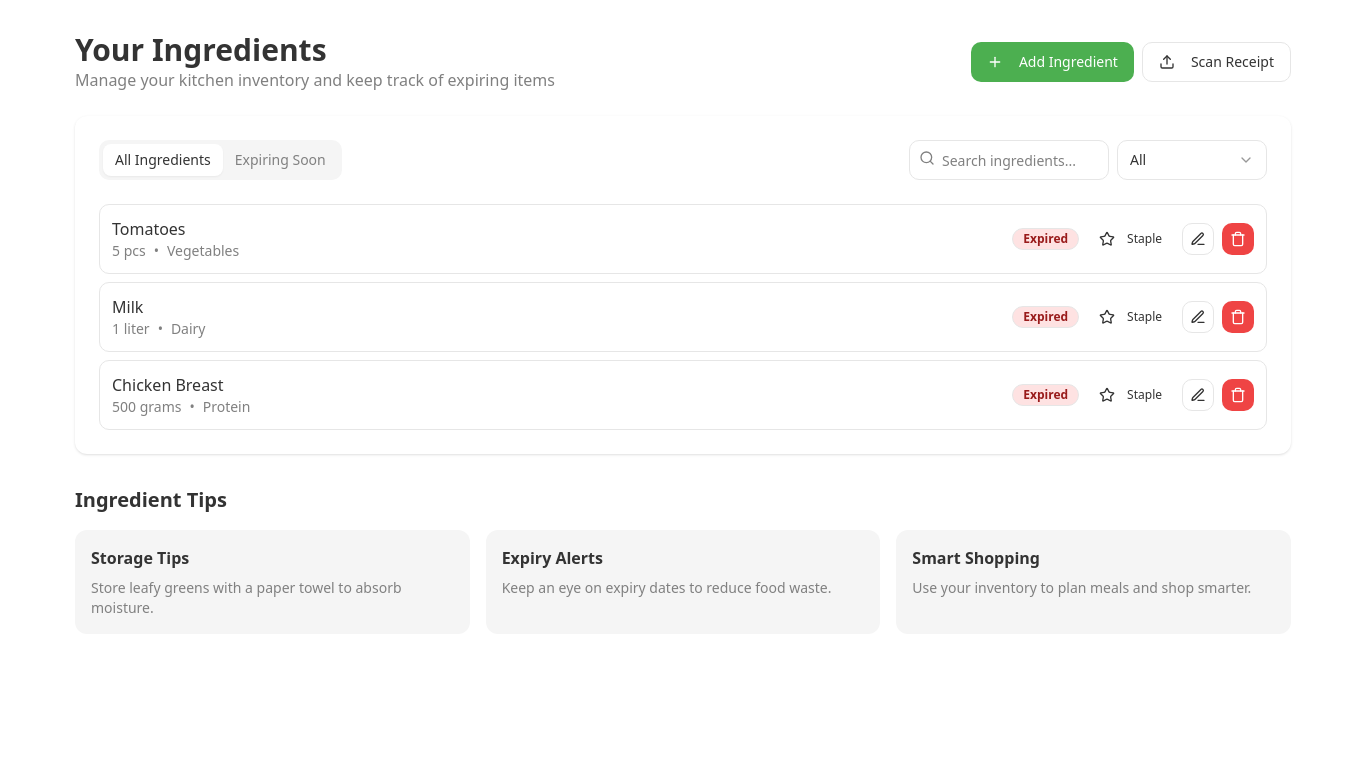
Scenario: Inventory Page › opens add ingredient dialog
Click the button "Add Ingredient": (1052, 62) [971,42,1134,82]
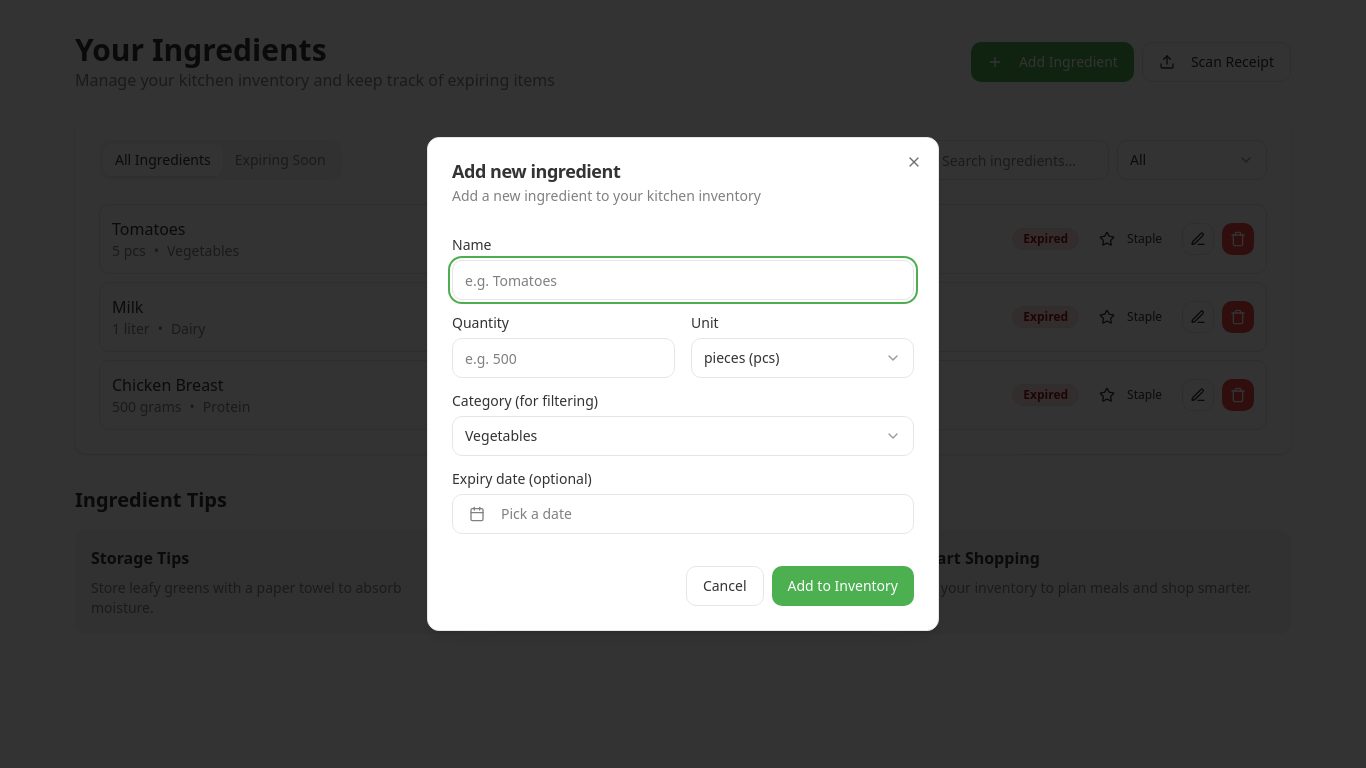
Result: the heading "Add new ingredient" is shown at [452,159,620,183]
Result: the field labelled "Name" is shown at [452,260,914,300]
Result: the number field labelled "Quantity" is shown at [452,338,675,378]
